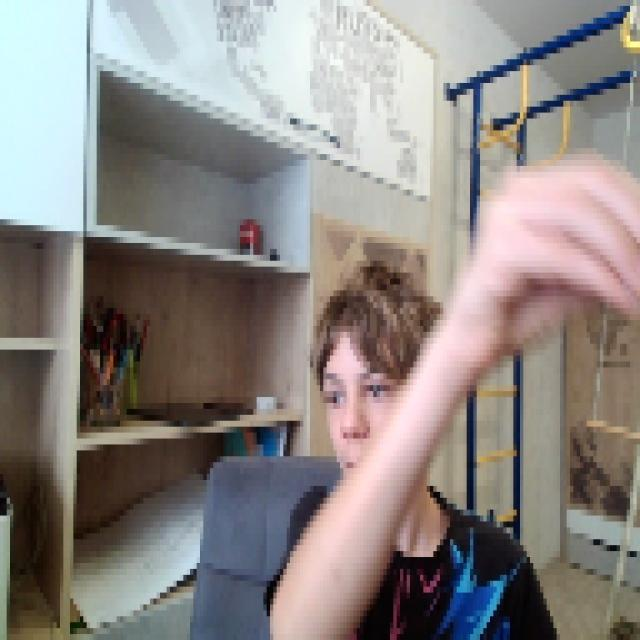left_click: (480, 142, 637, 344)
